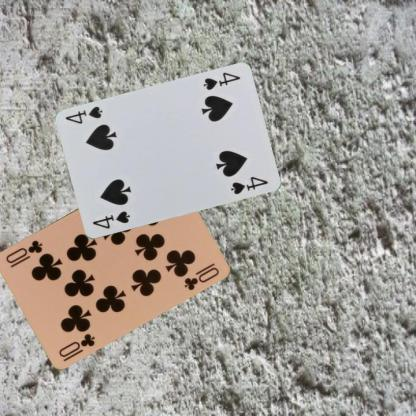10c: (57, 329, 96, 358)
4s: (90, 208, 132, 230), (200, 70, 242, 92)
